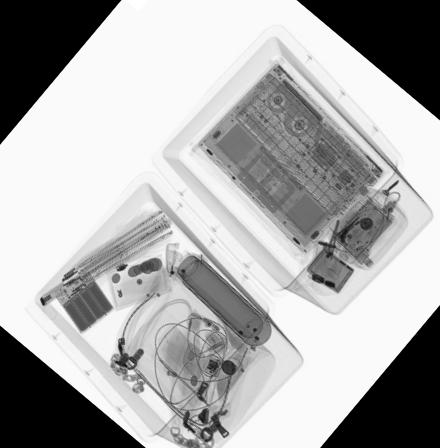Powerbank: (323, 191, 397, 261), (48, 264, 117, 337)
